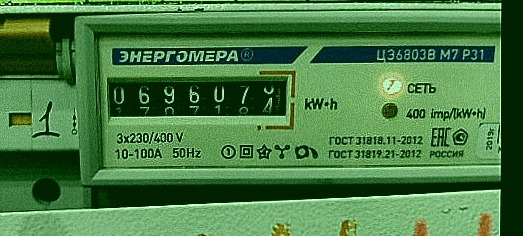0: (211, 81, 226, 103), (111, 83, 125, 104)
4: (261, 94, 274, 115)
6: (136, 82, 150, 103), (186, 83, 200, 103)
7: (236, 83, 251, 104)
9: (161, 83, 174, 104)
screen: (94, 66, 300, 126)
